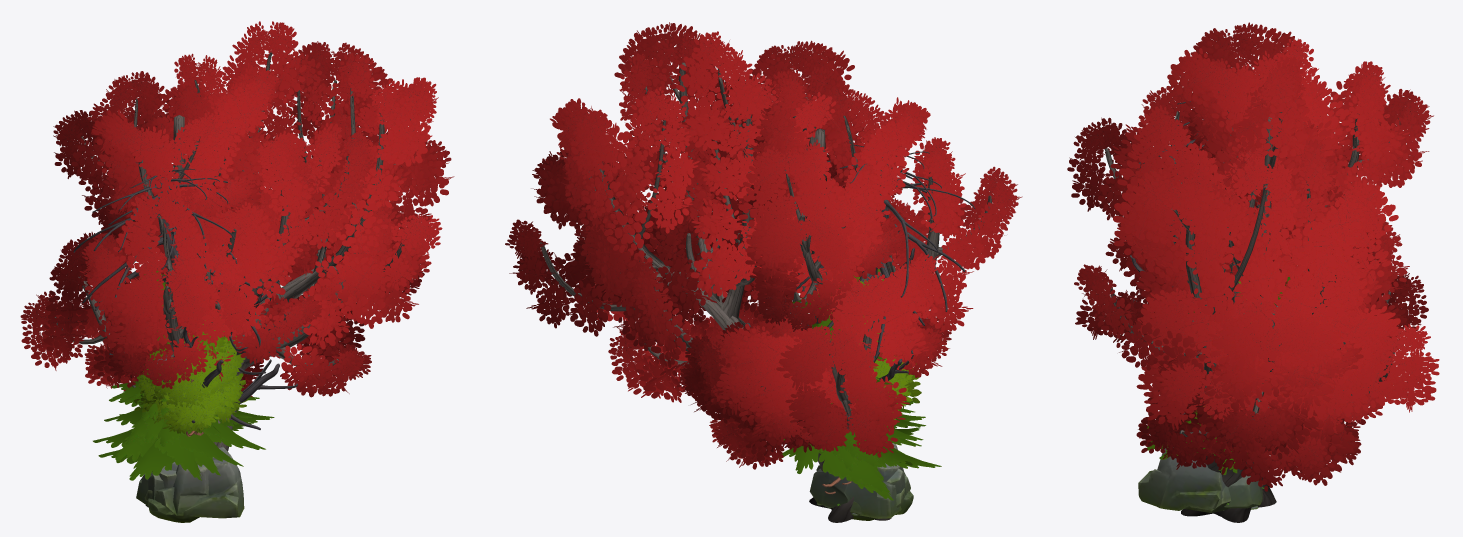
File: nature.glb
The picture shows the model from 3 angles, left to right: view 1: azimuth 30°, elevation 25°; view 2: azimuth 150°, elevation 25°; view 3: azimuth 270°, elevation 25°; orthographic projection. The views are drawn at different scales.
Parts seen in each view (by area): view 1: TwistedTree_3, TwistedTree_1, Pine_2, Pine_5, Rock_Medium_3, DeadTree_3, CommonTree_1, CommonTree_2, CommonTree_3, Rock_Medium_1, DeadTree_1, Rock_Medium_2; view 2: TwistedTree_1, TwistedTree_3, Pine_5, Rock_Medium_2, DeadTree_3, Pine_2; view 3: TwistedTree_1, TwistedTree_3, Rock_Medium_3, Rock_Medium_2.
Boxes of the visible parts, bbox=[...] form: TwistedTree_3: bbox=[20, 53, 376, 396]; TwistedTree_1: bbox=[106, 21, 454, 507]; Pine_2: bbox=[98, 374, 253, 480]; Pine_5: bbox=[93, 283, 274, 475]; Rock_Medium_3: bbox=[148, 447, 244, 522]; DeadTree_3: bbox=[73, 155, 262, 346]; CommonTree_1: bbox=[133, 334, 247, 433]; CommonTree_2: bbox=[136, 330, 245, 436]; CommonTree_3: bbox=[141, 270, 245, 411]; Rock_Medium_1: bbox=[144, 464, 209, 515]; DeadTree_1: bbox=[109, 271, 297, 429]; Rock_Medium_2: bbox=[136, 466, 176, 505]; TwistedTree_1: bbox=[505, 22, 927, 522]; TwistedTree_3: bbox=[676, 40, 1022, 469]; Pine_5: bbox=[783, 288, 930, 492]; Rock_Medium_2: bbox=[809, 463, 901, 518]; DeadTree_3: bbox=[796, 145, 975, 358]; Pine_2: bbox=[779, 377, 941, 500]; TwistedTree_1: bbox=[1074, 56, 1439, 522]; TwistedTree_3: bbox=[1067, 22, 1433, 479]; Rock_Medium_3: bbox=[1138, 447, 1225, 510]; Rock_Medium_2: bbox=[1224, 475, 1262, 508].
Bounding box in the file's own units: 15.83 × 16.86 × 11.71.
Materials: 12 (12 with a texture image).
